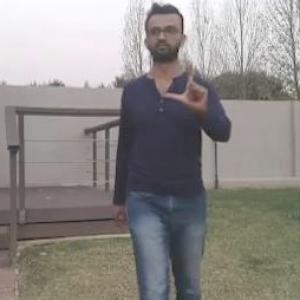land_hand: (163, 52, 213, 112)
